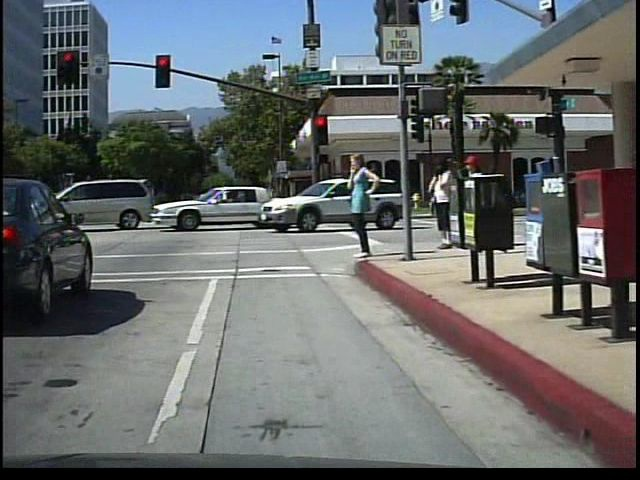person: (343, 147, 380, 264), (453, 146, 489, 251), (428, 149, 460, 251)
